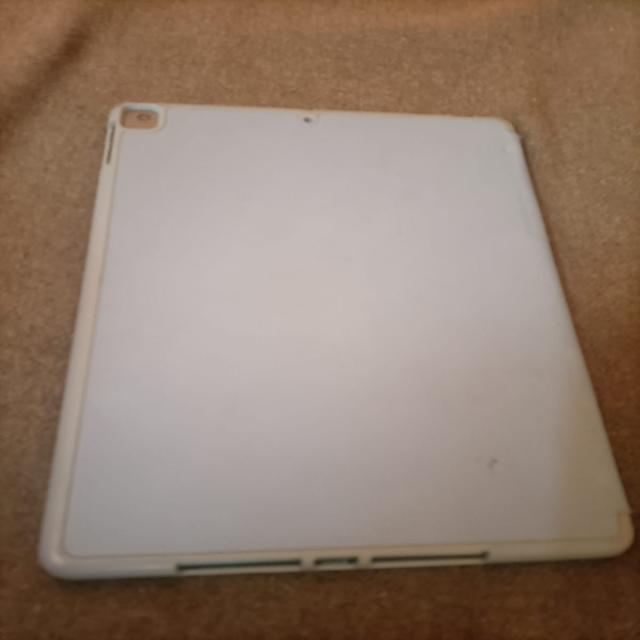tablet: (7, 12, 640, 637)
